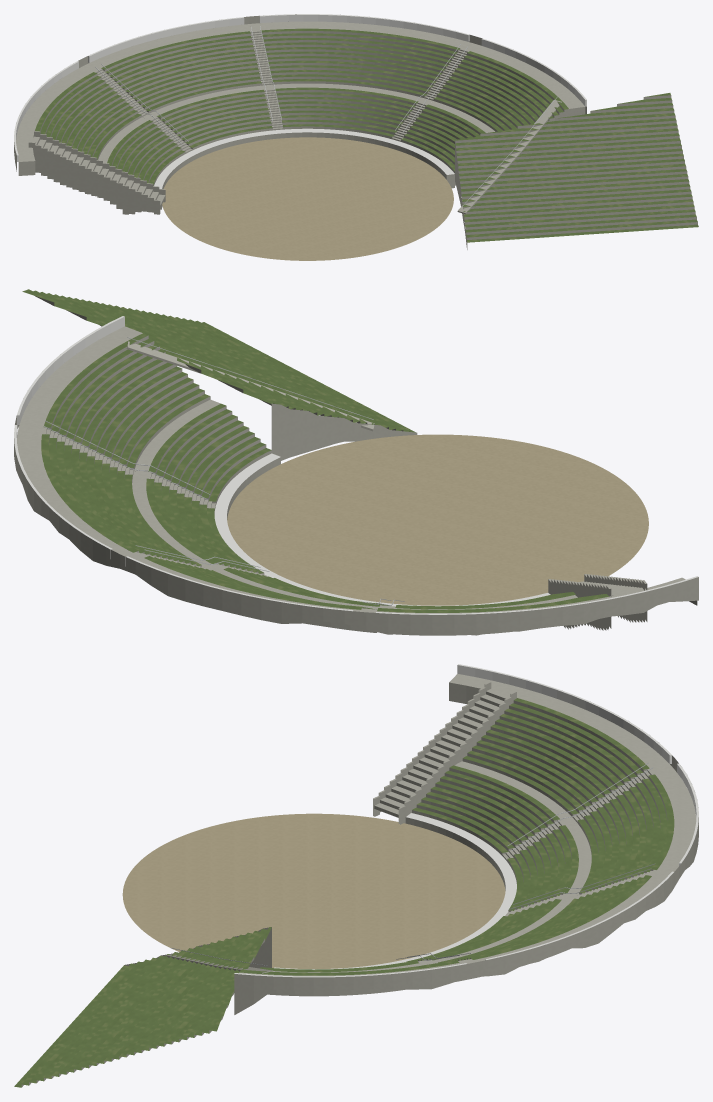
The picture shows the model from 3 angles, top to bottom: view 1: azimuth 30°, elevation 25°; view 2: azimuth 150°, elevation 25°; view 3: azimuth 270°, elevation 25°; orthographic projection. The views are drawn at different scales.
Visible parts, largest first — view 1: amphitheaterBowl__concrete, amphitheaterBowl__grass, amphitheaterBowl__sand, amphitheaterBowl__white, amphitheaterBowl__rail; view 2: amphitheaterBowl__sand, amphitheaterBowl__grass, amphitheaterBowl__concrete, amphitheaterBowl__white, amphitheaterBowl__rail; view 3: amphitheaterBowl__grass, amphitheaterBowl__sand, amphitheaterBowl__concrete, amphitheaterBowl__white, amphitheaterBowl__rail.
Boxes of the visible parts, <box> form: amphitheaterBowl__concrete: <box>14,14,697,249</box>; amphitheaterBowl__grass: <box>33,28,698,242</box>; amphitheaterBowl__sand: <box>162,137,453,260</box>; amphitheaterBowl__white: <box>14,14,586,188</box>; amphitheaterBowl__rail: <box>95,26,558,206</box>; amphitheaterBowl__sand: <box>227,434,648,605</box>; amphitheaterBowl__grass: <box>22,289,609,612</box>; amphitheaterBowl__concrete: <box>14,296,698,635</box>; amphitheaterBowl__white: <box>14,316,698,614</box>; amphitheaterBowl__rail: <box>44,337,404,605</box>; amphitheaterBowl__grass: <box>14,698,674,1087</box>; amphitheaterBowl__sand: <box>122,813,505,968</box>; amphitheaterBowl__concrete: <box>21,674,698,1087</box>; amphitheaterBowl__white: <box>234,664,698,977</box>; amphitheaterBowl__rail: <box>171,762,654,965</box>.
Bounding box in the file's own units: 105 × 14.52 × 84.74.
Materials: 5 (3 with a texture image).
